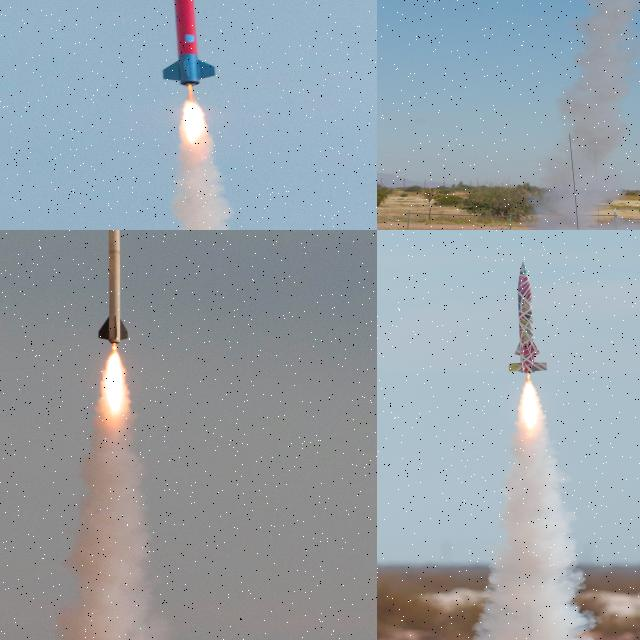Rocket: (160, 0, 216, 87), (508, 261, 548, 374), (96, 230, 130, 345)
